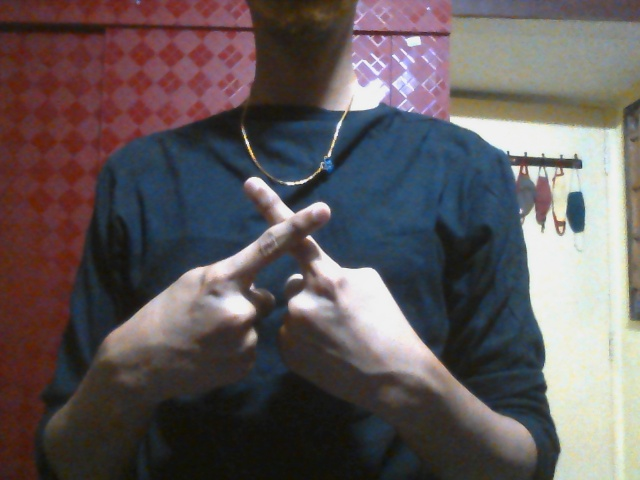X: (141, 177, 395, 427)
